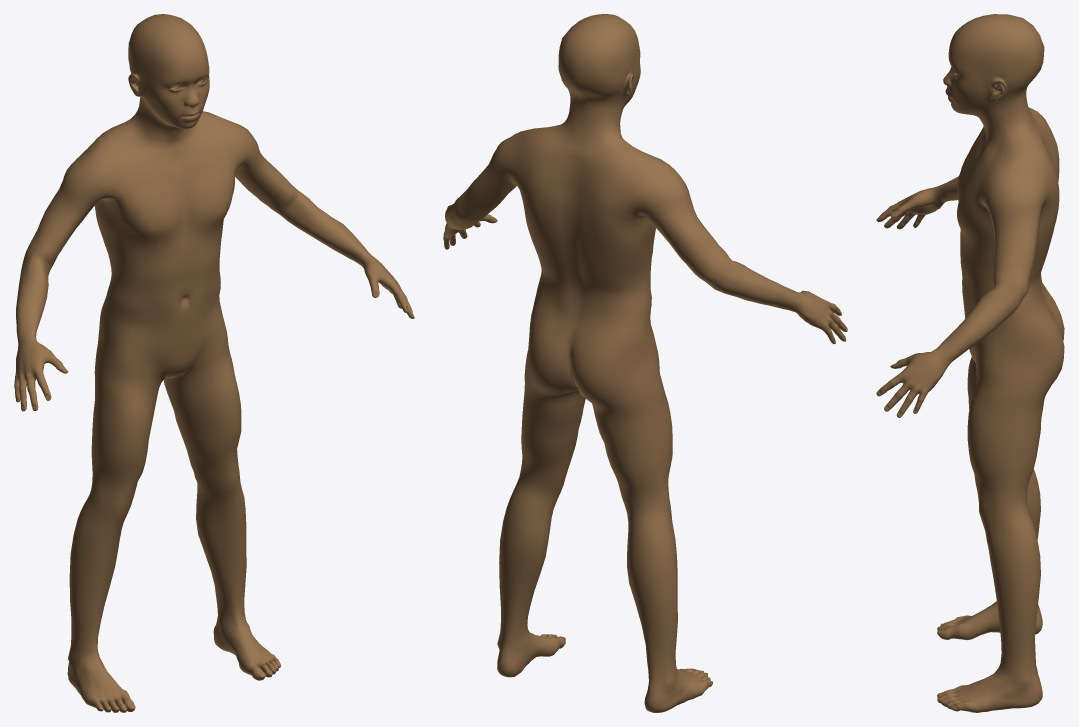
3 renders of one model, left to right at view 1: azimuth 30°, elevation 25°; view 2: azimuth 150°, elevation 25°; view 3: azimuth 270°, elevation 25°, orthographic.
Parts seen in each view (by area): view 1: Human; view 2: Human; view 3: Human.
Boxes of the visible parts, bbox=[...] form: Human: bbox=[14, 14, 414, 712]; Human: bbox=[443, 14, 847, 712]; Human: bbox=[876, 14, 1064, 712].
Bounding box in the file's own units: 1.07 × 1.72 × 0.4495.
